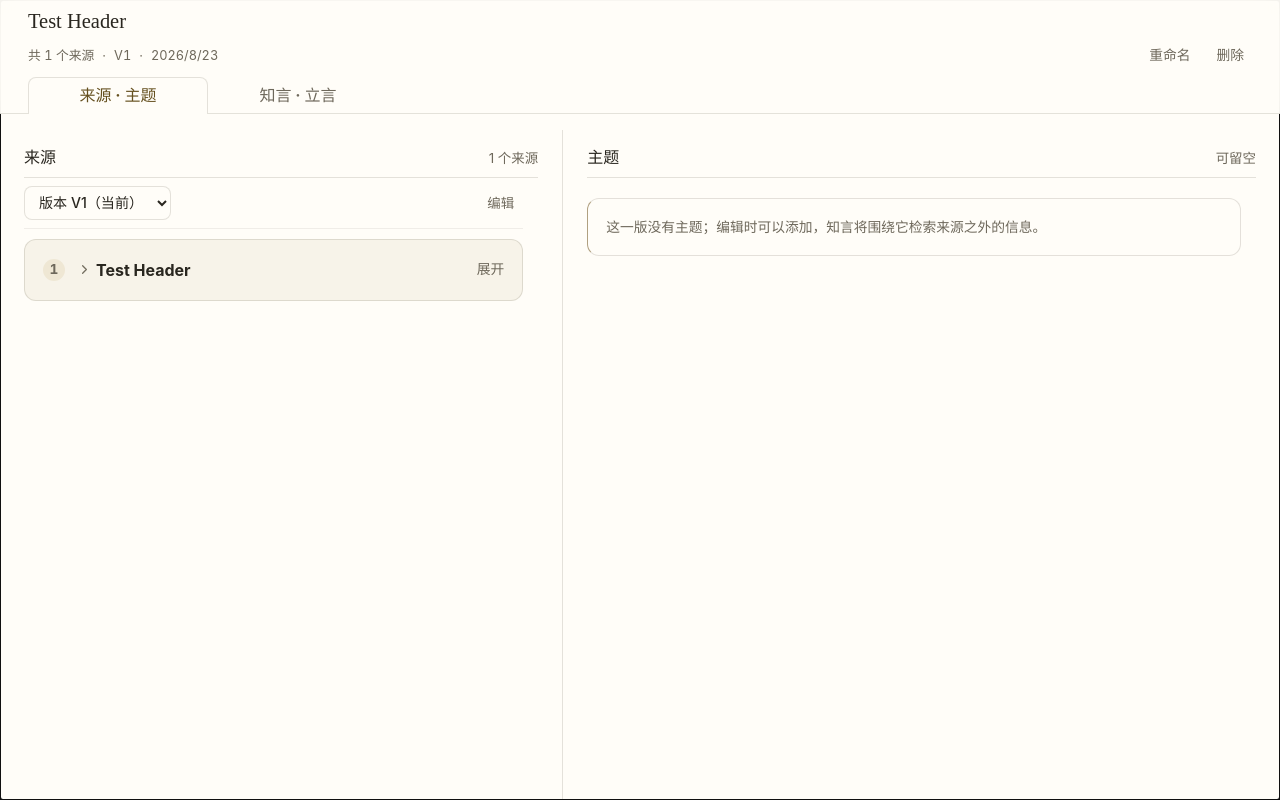
TaskCard › opens 来源与主题 first and remembers the selected workspace
Expected: the dropdown shows "版本 V1（当前）", [24,186,171,220]
Click the button "知言 · 立言" at (298, 95), box [208,77,388,113]
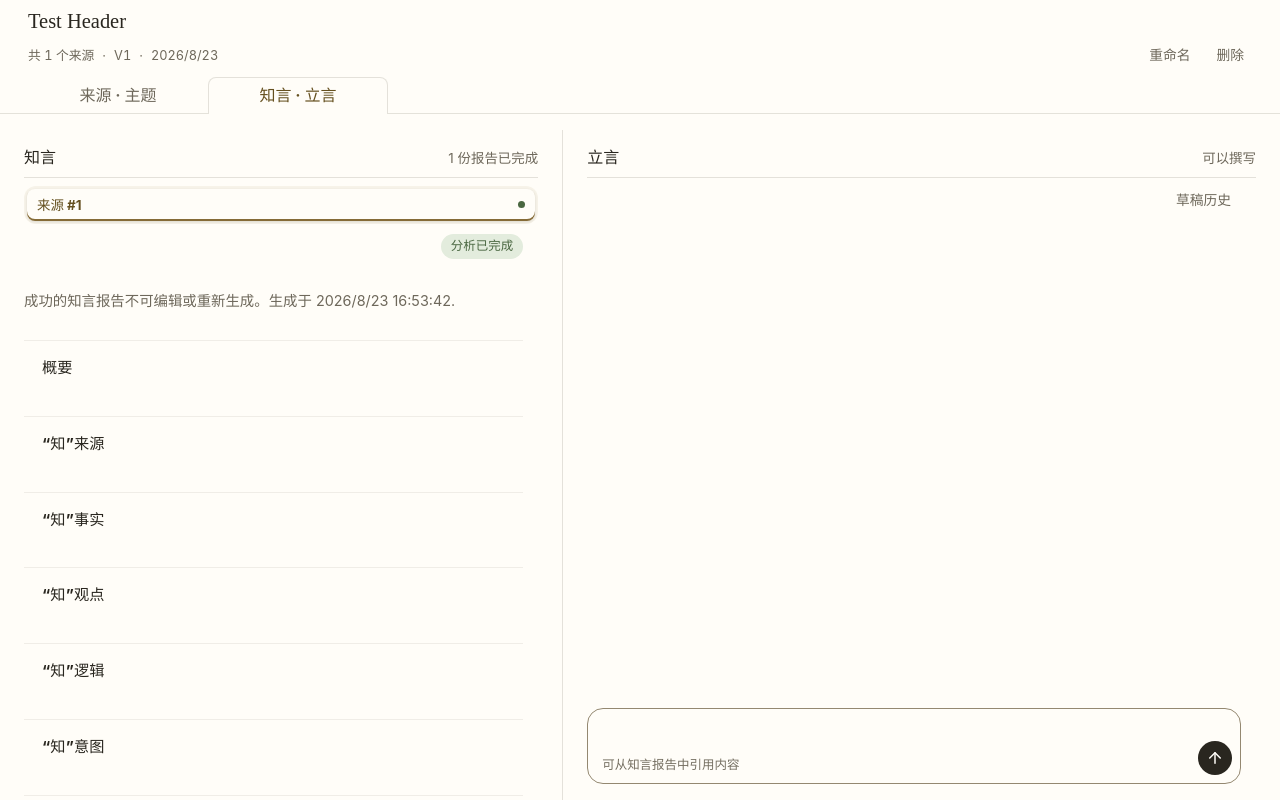
Result: the button named "默认生成" is shown at [1198,741,1232,775]
